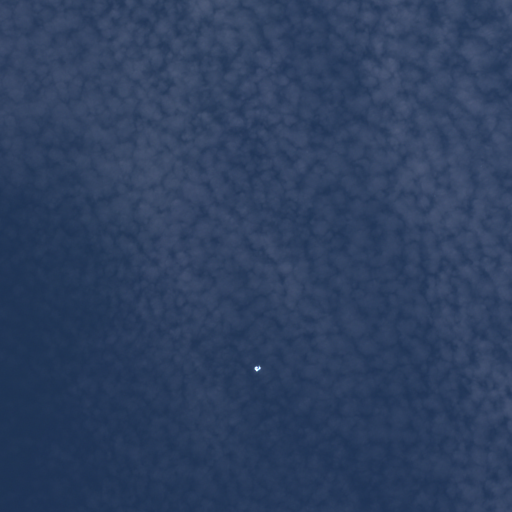Iceberg: (254, 365, 260, 371)
